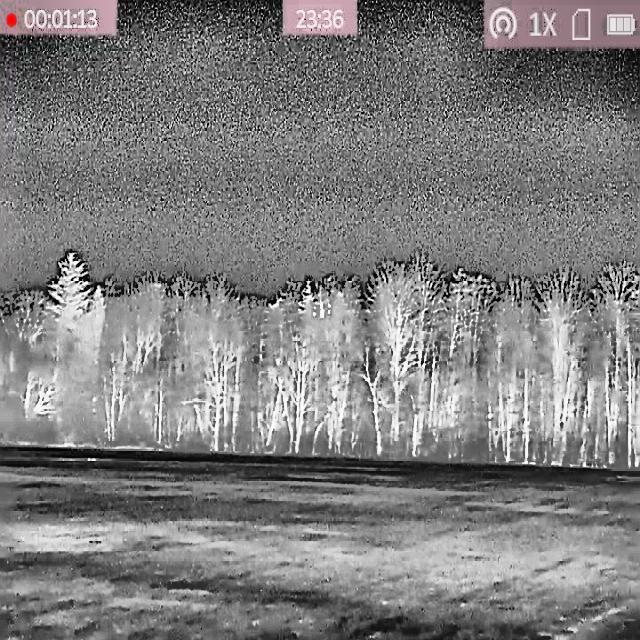drone: (312, 300, 333, 320)
